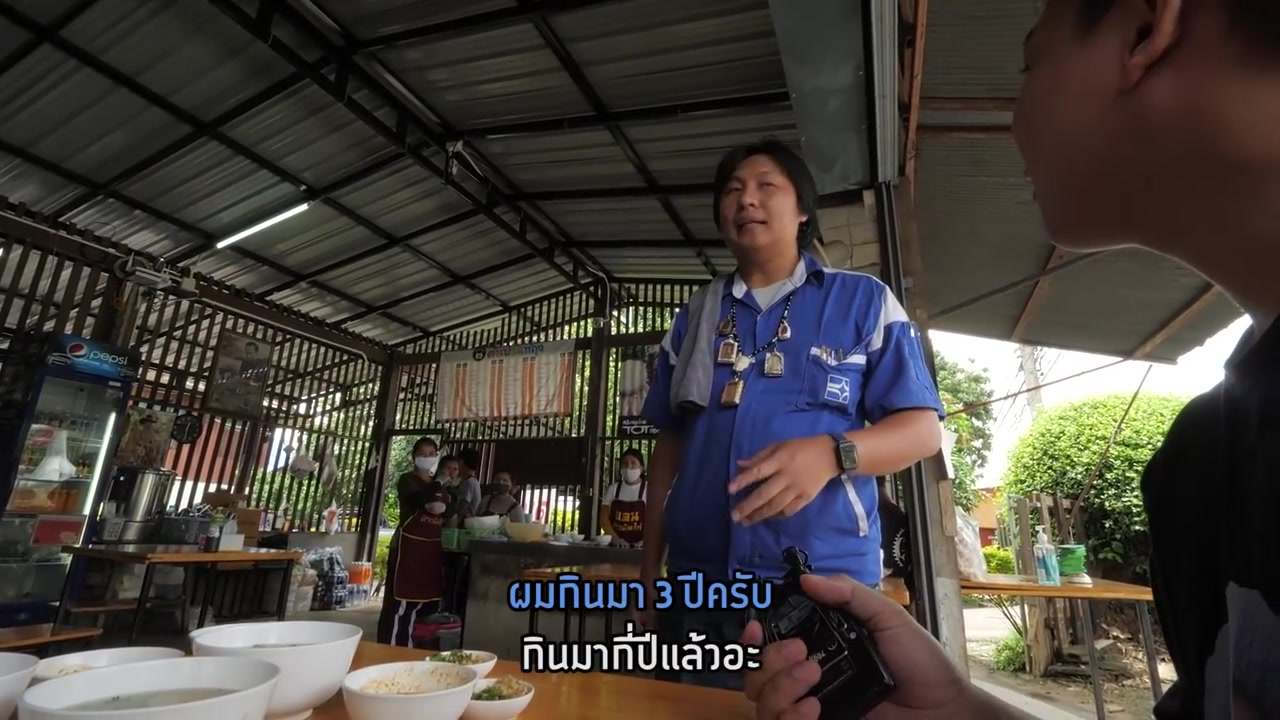text-label: (516, 617, 766, 675), (507, 568, 778, 617)
